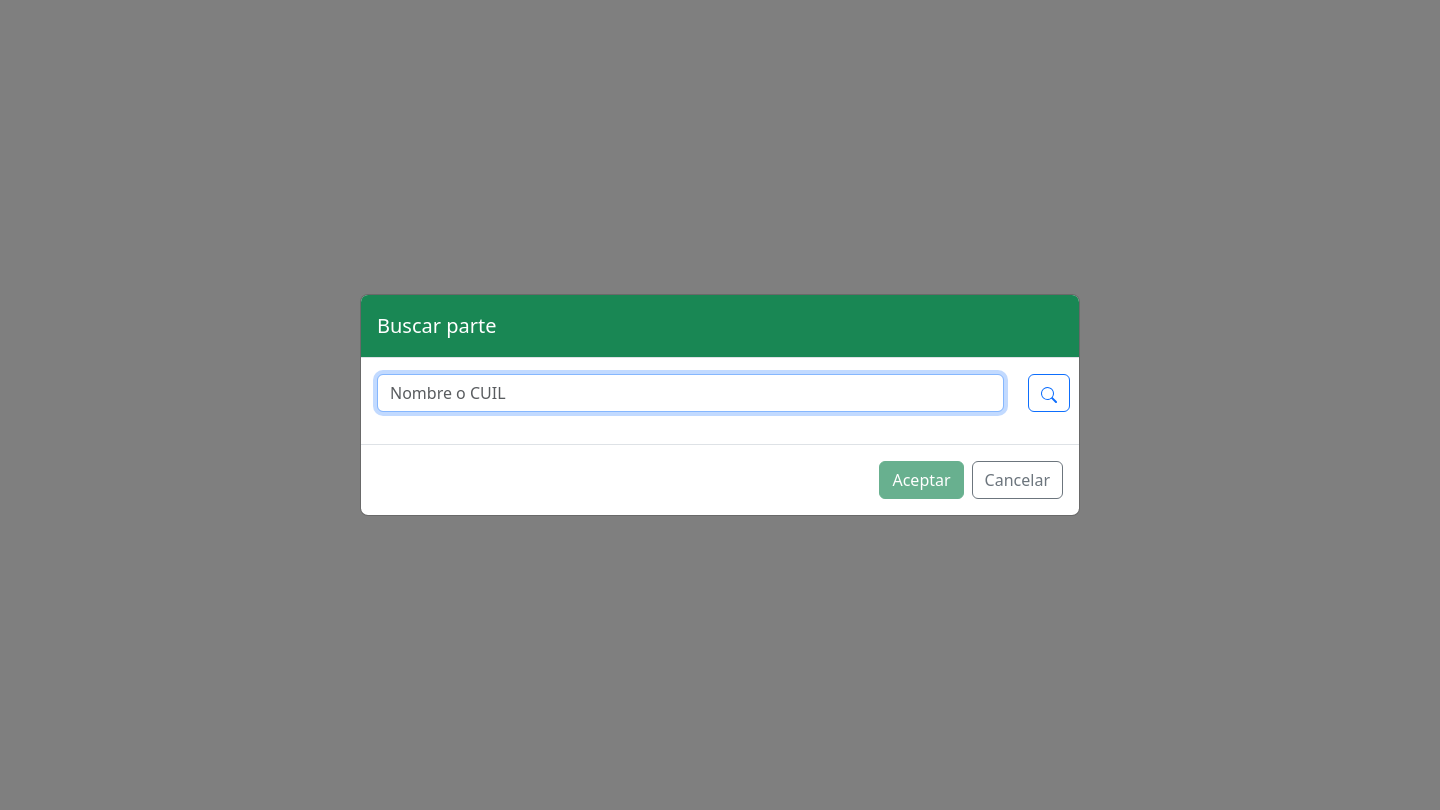
Test: <ModalSearchDialog /> › muestra el error devuelto por la búsqueda
Type "ana" into the field with placeholder "Nombre o CUIL" at {"x": 690, "y": 393}, box [377,374,1004,412]
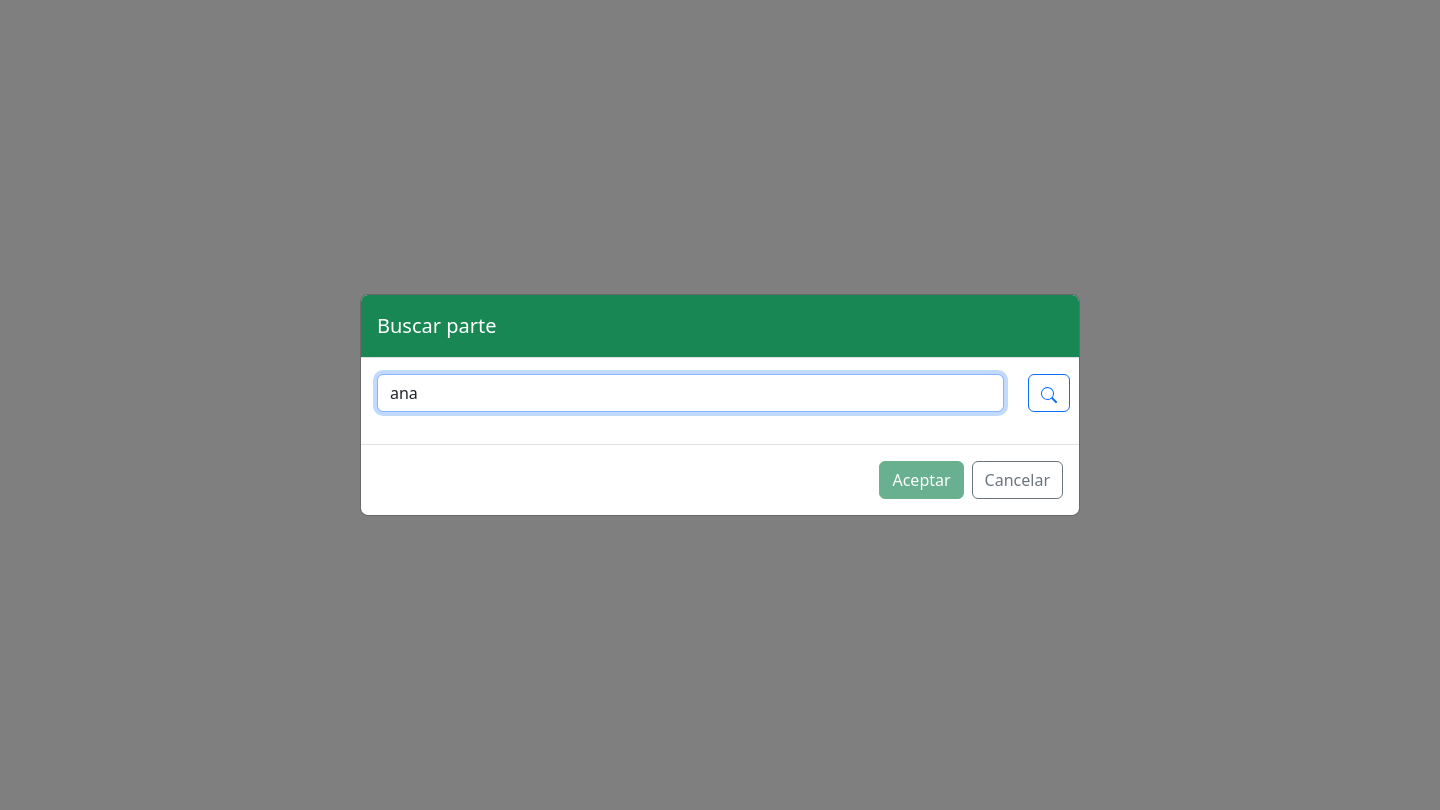
Click the 1st button at {"x": 1049, "y": 393}, box [1028,374,1070,412]
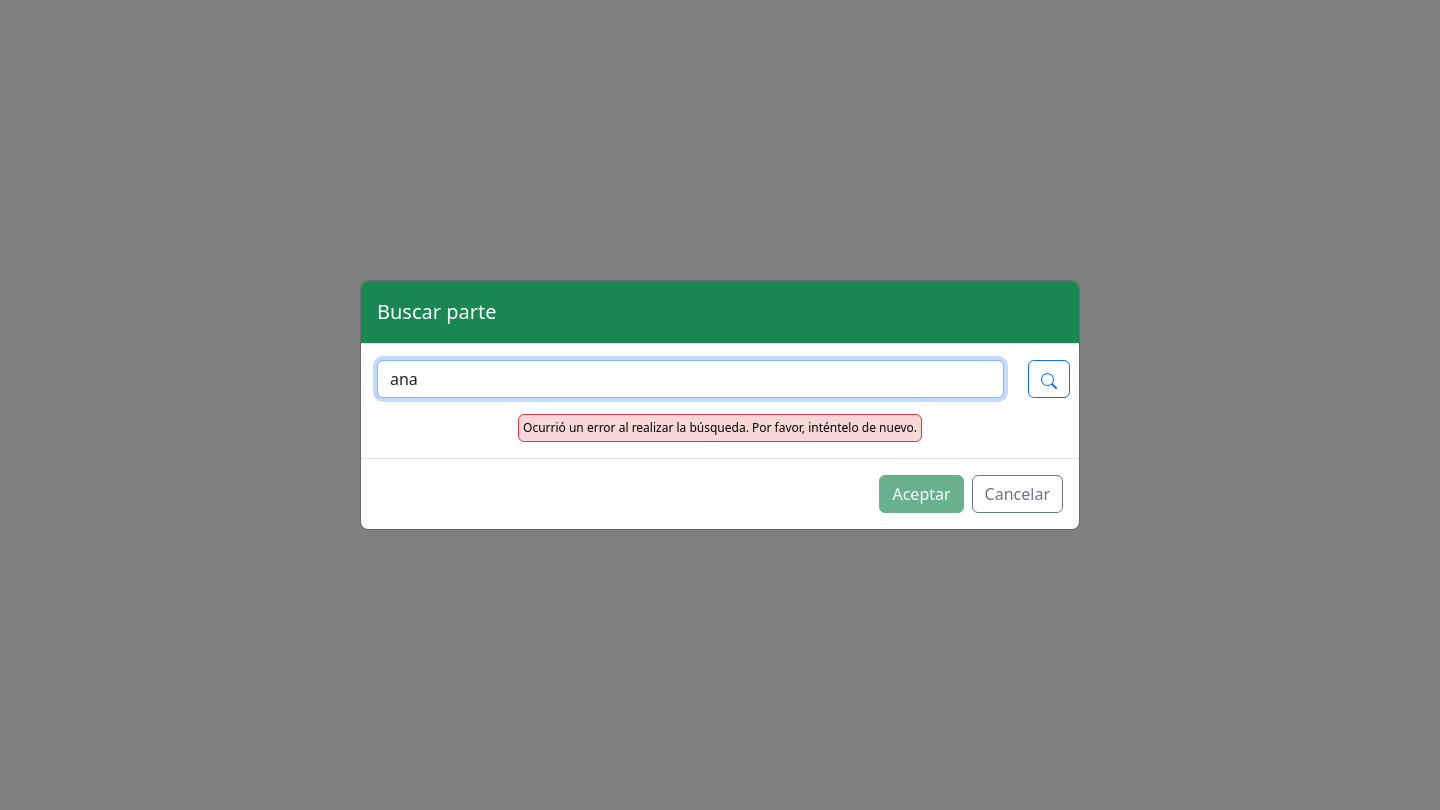
Now the text "Ocurrió un error al realizar la búsqueda. Por favor, inténtelo de nuevo." is shown, box [518,414,922,442]
